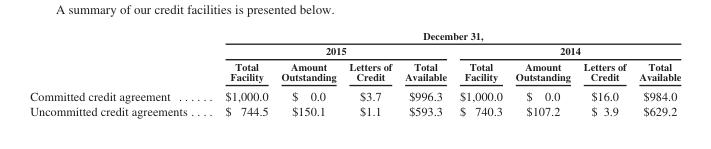table: (29, 29, 680, 117)
table column: (29, 29, 205, 117), (205, 29, 274, 117), (274, 29, 342, 117), (508, 29, 576, 117), (452, 29, 508, 117), (342, 29, 397, 117), (397, 29, 452, 117), (576, 29, 631, 117), (631, 29, 680, 117)
table column header: (29, 29, 680, 85)
table row: (29, 58, 680, 85), (29, 85, 680, 103), (29, 42, 680, 58), (29, 103, 680, 117), (29, 29, 680, 42)
table spanning cell: (205, 29, 680, 42), (205, 42, 452, 58), (452, 42, 680, 58)
